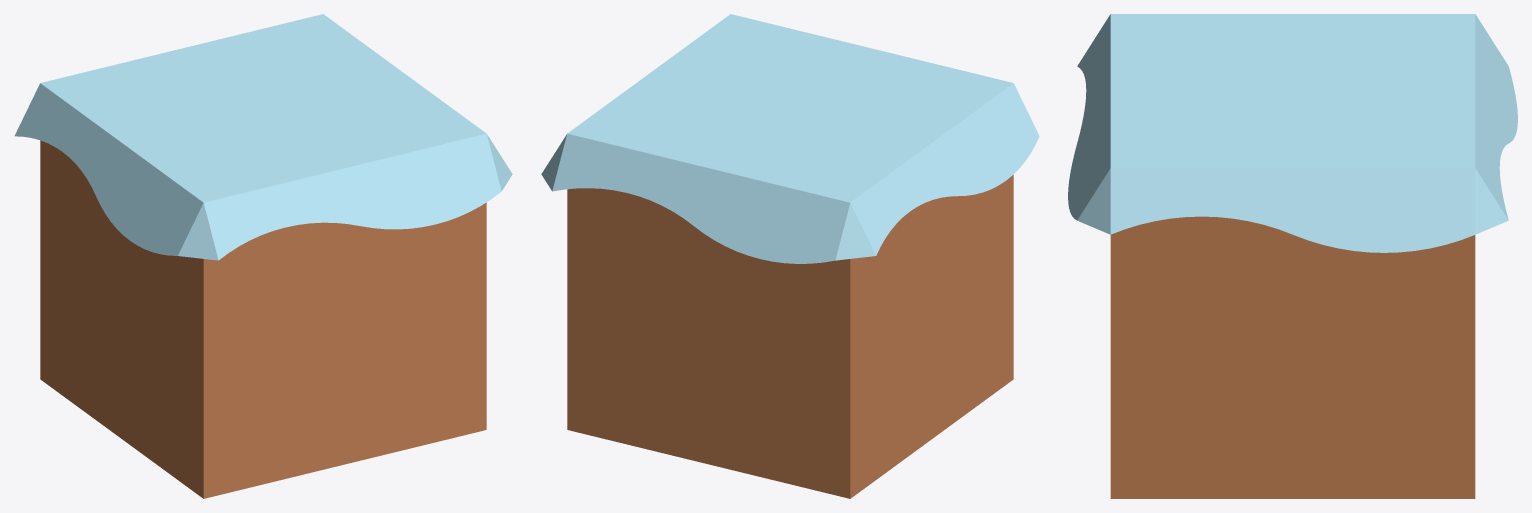
The model's file is b_kenney_mur_neige.glb.
The picture shows the model from 3 angles, left to right: view 1: azimuth 30°, elevation 25°; view 2: azimuth 150°, elevation 25°; view 3: azimuth 270°, elevation 25°; orthographic projection. The views are drawn at different scales.
Visible parts, largest first — view 1: b_kenney_mur_neige; view 2: b_kenney_mur_neige; view 3: b_kenney_mur_neige.
Boxes of the visible parts, left/top/right/bottom form: b_kenney_mur_neige: left=14, top=14, right=512, bottom=498; b_kenney_mur_neige: left=541, top=14, right=1039, bottom=498; b_kenney_mur_neige: left=1068, top=14, right=1517, bottom=498.
Size of the model in its own units: 1.23 by 1 by 1.23.
Materials: 1 (1 with a texture image).
